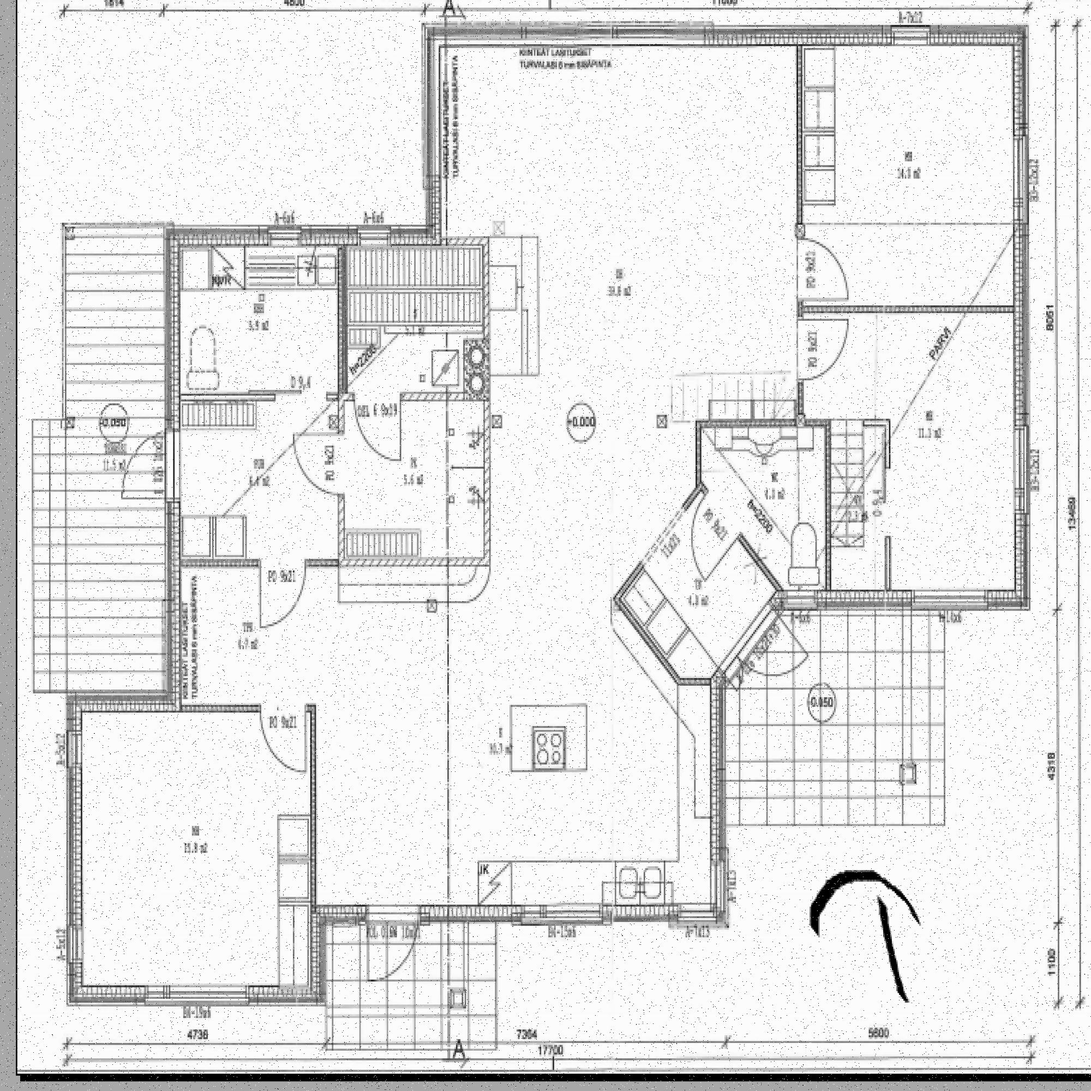wall: (422, 23, 1029, 46), (1015, 49, 1031, 591), (316, 906, 729, 924), (67, 983, 326, 1006), (66, 692, 81, 975), (166, 231, 440, 243), (182, 559, 488, 568), (425, 46, 440, 218), (339, 247, 346, 556), (309, 714, 316, 982), (85, 703, 316, 711)
